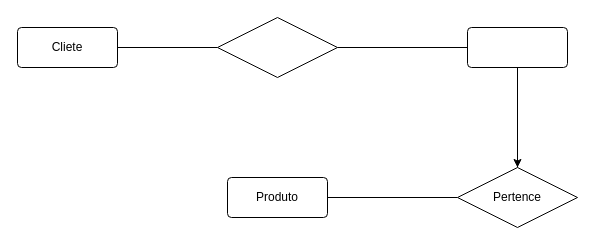
Some shapes in this 595 by 245 pixel diagram are drawn without their labels. The centre of each missing label's shape, as x and y in pixels:
Encomenda: [517,47]
Faz: [277,47]
